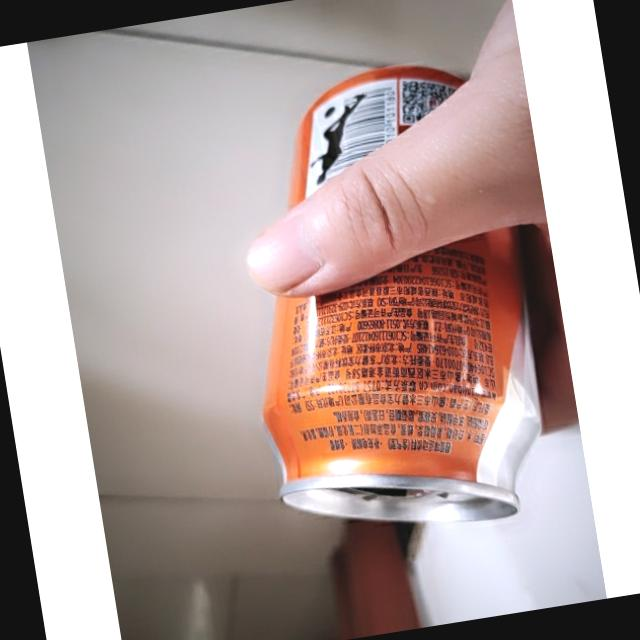can: (210, 49, 562, 556)
